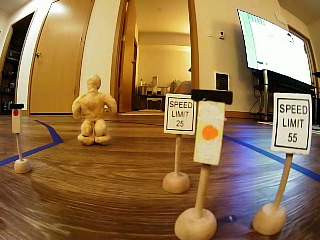Red traffic light: (3, 97, 27, 135)
person: (73, 70, 118, 149)
speed limit 25: (161, 83, 196, 136)
speed limit 55: (269, 85, 315, 157)
yellow traffic light: (200, 80, 235, 167)
